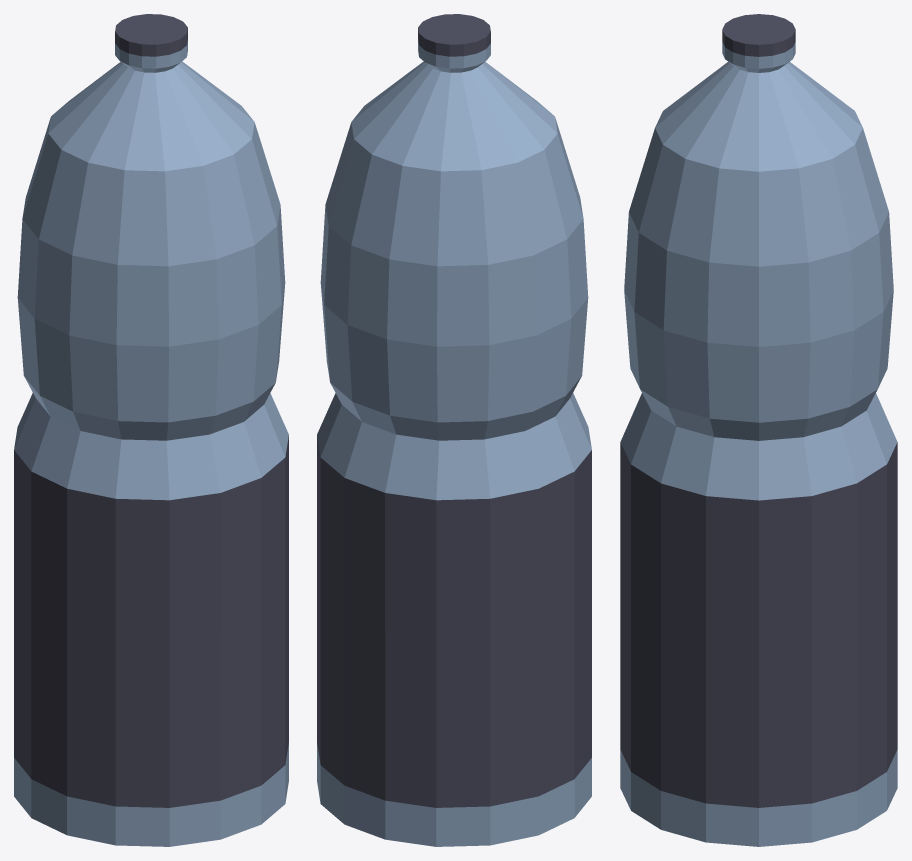
File: Water_01.fbx
3 views of the same model, side by side, from view 1: azimuth 30°, elevation 25°; view 2: azimuth 150°, elevation 25°; view 3: azimuth 270°, elevation 25° (orthographic).
Visible parts, largest first — view 1: Water_01; view 2: Water_01; view 3: Water_01.
Part boxes in pixels (x1,y1,x2,y2): Water_01: (14,14,288,846); Water_01: (317,14,591,846); Water_01: (620,14,897,846).
Bounding box in the file's own units: 10.82 × 33.19 × 10.82.
